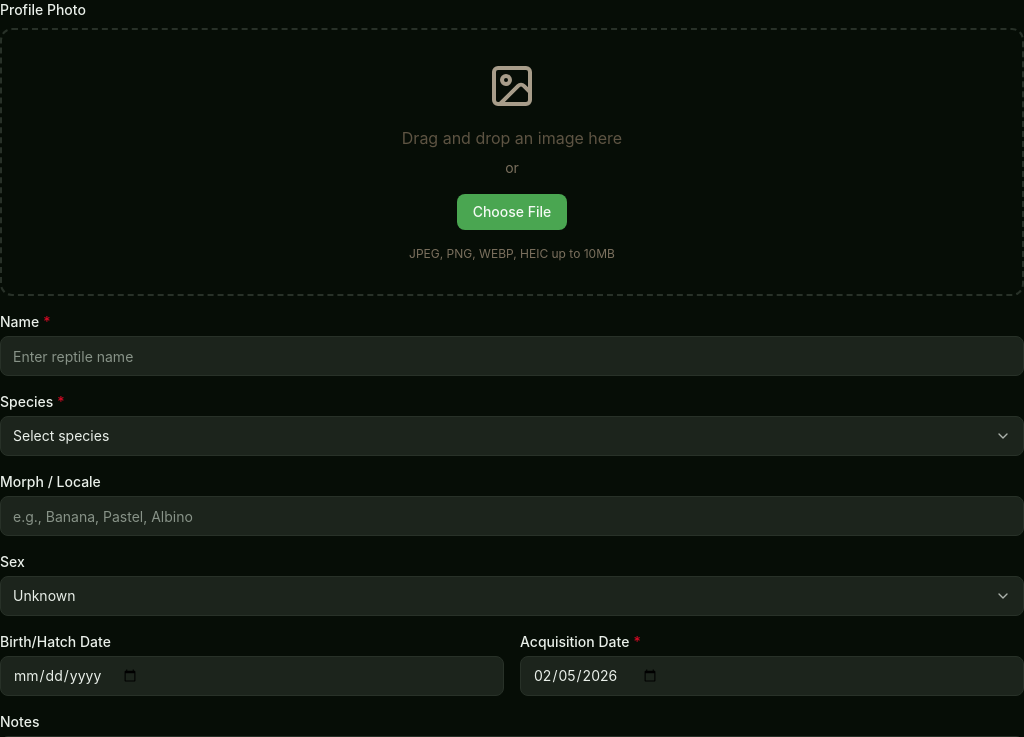
Scenario: ReptileForm › species-aware measurements section › should show measurements section when species is selected
This screenshot has width=1024, height=737.
Select species
What coordinates should you click on to do the following:
click the dropdown labelled "Select species"
I would click on:
 (61, 436)
Its box is [0,416,1023,456].
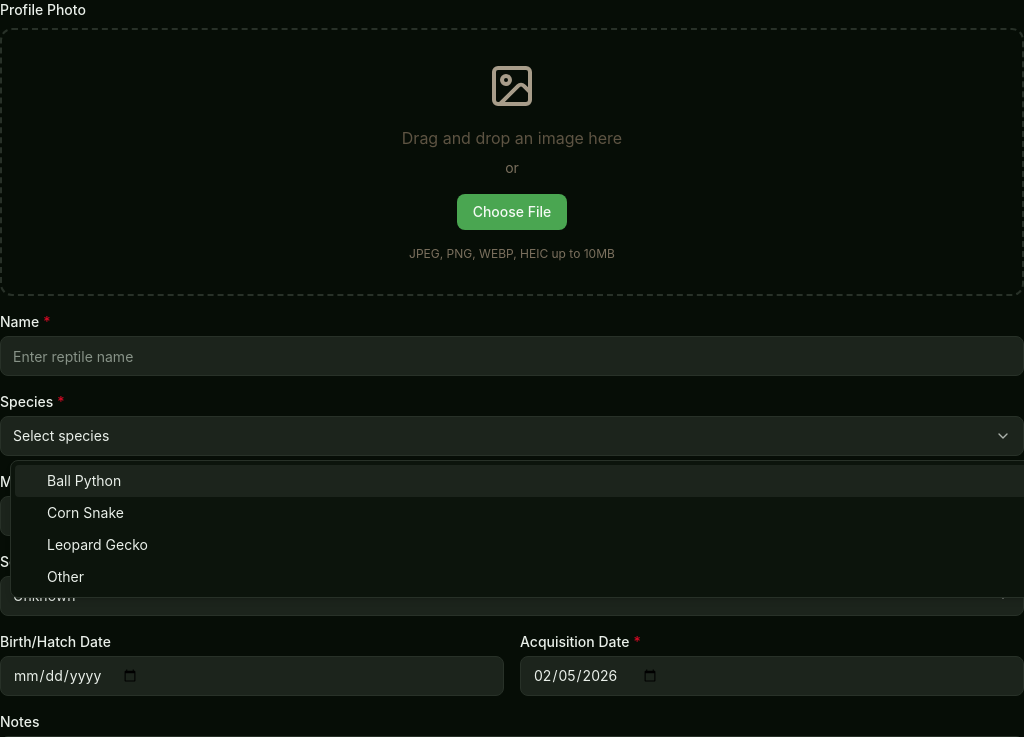
What coordinates should you click on to do the following:
click the option "Ball Python"
I would click on:
 (84, 480)
Its box is [15,465,1023,497].
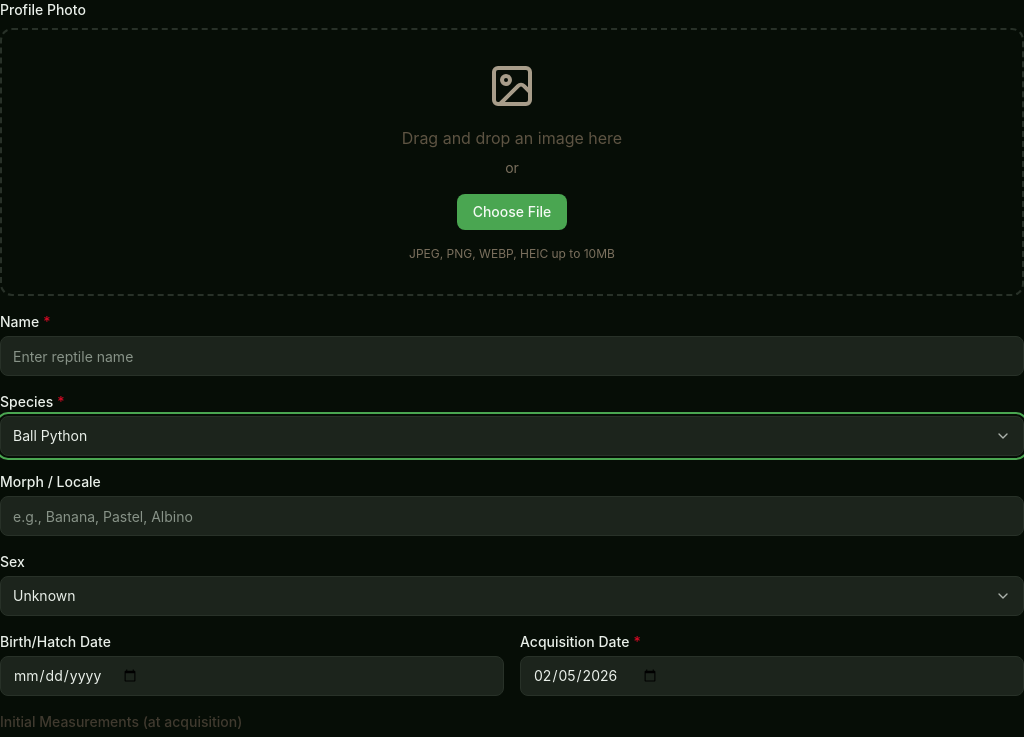
Expected: the heading "Initial Measurements (at acquisition)" is shown, [0,713,242,730]
